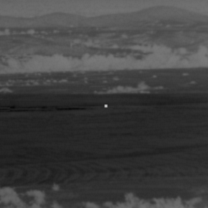Target: (103, 103, 109, 109)
